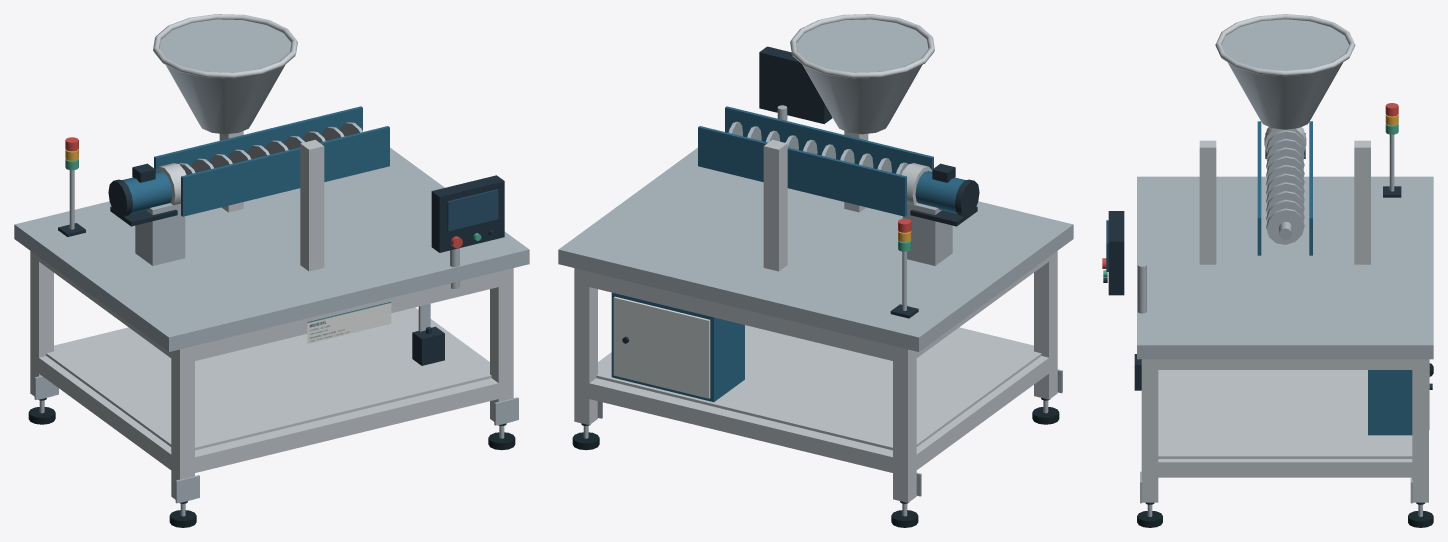
File: screw-conveyor-cell.glb
The picture shows the model from 3 angles, left to right: view 1: azimuth 30°, elevation 25°; view 2: azimuth 150°, elevation 25°; view 3: azimuth 270°, elevation 25°; orthographic projection. The views are drawn at different scales.
Visible parts, largest first — view 1: ClosedMachineBed_28, LowerShelf_29, FeedHopper_50, AugerTrough_64, SlottedExtrusion_22, SlottedExtrusion_23, SlottedExtrusion_8, SlottedExtrusion_49, SlottedExtrusion_24, AugerTrough_63, ConsoleBack_34, SlottedExtrusion_18 (+9 smaller); view 2: ClosedMachineBed_28, LowerShelf_29, FeedHopper_50, BackDoor_31, AugerTrough_63, SlottedExtrusion_20, SlottedExtrusion_21, AugerTrough_64, ConsoleBack_34, SlottedExtrusion_3, Cabinet_30, SlottedExtrusion_24 (+8 smaller); view 3: ClosedMachineBed_28, LowerShelf_29, FeedHopper_50, SlottedExtrusion_26, Cabinet_30, SlottedExtrusion_27, SlottedExtrusion_18, SlottedExtrusion_13, SlottedExtrusion_49, SlottedExtrusion_48, HopperLip_51, ConsoleBack_34 (+4 smaller).
Part boxes in pixels (x1=…): ClosedMachineBed_28: x1=14, y1=147, x2=529, y2=351; LowerShelf_29: x1=46, y1=308, x2=491, y2=450; FeedHopper_50: x1=159, y1=19, x2=291, y2=134; AugerTrough_64: x1=181, y1=126, x2=389, y2=216; SlottedExtrusion_22: x1=188, y1=378, x2=506, y2=472; SlottedExtrusion_23: x1=187, y1=270, x2=506, y2=362; SlottedExtrusion_8: x1=171, y1=346, x2=194, y2=502; SlottedExtrusion_49: x1=300, y1=139, x2=324, y2=271; SlottedExtrusion_24: x1=35, y1=356, x2=174, y2=471; AugerTrough_63: x1=154, y1=106, x2=362, y2=169; ConsoleBack_34: x1=431, y1=175, x2=504, y2=252; SlottedExtrusion_18: x1=490, y1=268, x2=513, y2=424; ClosedMachineBed_28: x1=558, y1=147, x2=1073, y2=351; LowerShelf_29: x1=596, y1=325, x2=1041, y2=450; FeedHopper_50: x1=796, y1=19, x2=928, y2=134; BackDoor_31: x1=613, y1=296, x2=710, y2=398; AugerTrough_63: x1=698, y1=126, x2=906, y2=216; SlottedExtrusion_20: x1=581, y1=378, x2=899, y2=472; SlottedExtrusion_21: x1=581, y1=270, x2=900, y2=362; AugerTrough_64: x1=725, y1=106, x2=933, y2=173; ConsoleBack_34: x1=759, y1=46, x2=832, y2=123; SlottedExtrusion_3: x1=893, y1=346, x2=916, y2=502; Cabinet_30: x1=611, y1=292, x2=744, y2=402; SlottedExtrusion_24: x1=912, y1=355, x2=1053, y2=473; ClosedMachineBed_28: x1=1137, y1=176, x2=1433, y2=359; LowerShelf_29: x1=1158, y1=370, x2=1412, y2=458; FeedHopper_50: x1=1221, y1=19, x2=1349, y2=129; SlottedExtrusion_26: x1=1150, y1=459, x2=1420, y2=477; Cabinet_30: x1=1368, y1=370, x2=1412, y2=435; SlottedExtrusion_27: x1=1150, y1=359, x2=1420, y2=369; SlottedExtrusion_18: x1=1141, y1=359, x2=1158, y2=502; SlottedExtrusion_13: x1=1412, y1=359, x2=1428, y2=502; SlottedExtrusion_49: x1=1199, y1=140, x2=1216, y2=264; SlottedExtrusion_48: x1=1354, y1=140, x2=1370, y2=264; HopperLip_51: x1=1215, y1=14, x2=1355, y2=76; ConsoleBack_34: x1=1108, y1=211, x2=1124, y2=295.
Size of the model in its own units: 1.55 by 1.64 by 1.29.
Materials: 11 (1 with a texture image).
